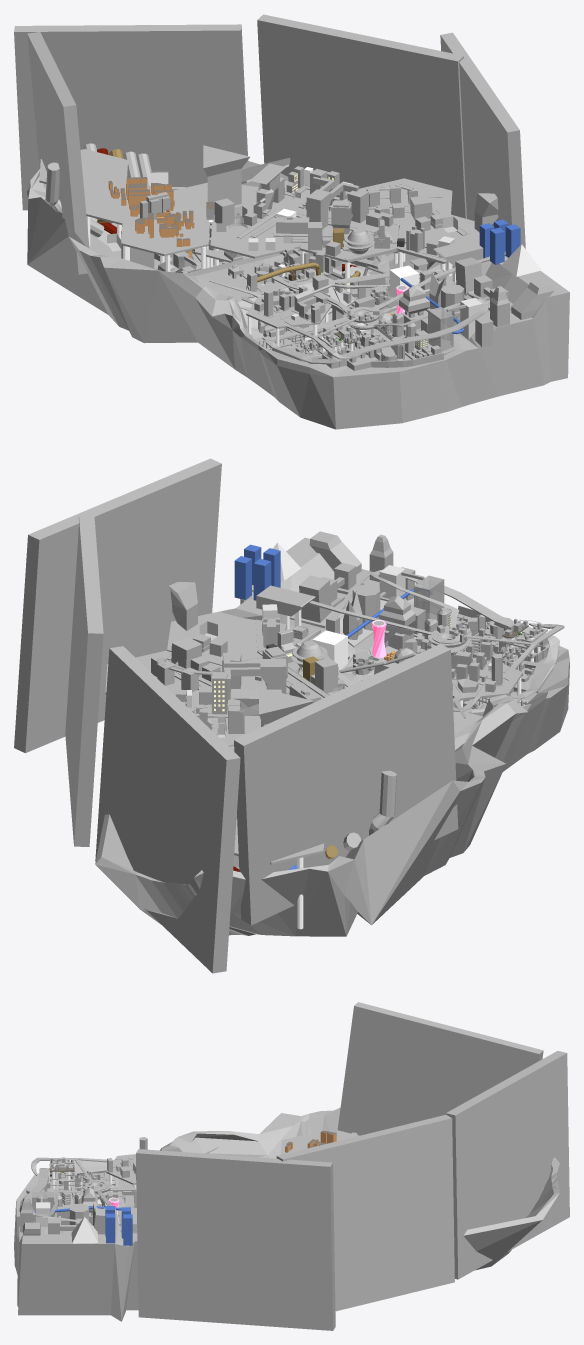
Rendered from megacity5.gltf.
3 renders of one model, top to bottom at view 1: azimuth 30°, elevation 25°; view 2: azimuth 150°, elevation 25°; view 3: azimuth 270°, elevation 25°, orthographic. The views are drawn at different scales.
Parts seen in each view (by area): view 1: Cube.330, Cube.061, Cube.627, Cube.062, Cube.628, Cylinder.054, Cylinder.099, Cylinder.053, Cylinder.085, Cylinder.083, Cylinder.056, Cylinder.055 (+26 smaller); view 2: Cube.330, Cube.628, Cube.062, Cube.627, Cube.061, Cylinder.038, Cube.492, Cube.359, Cylinder.030, Cylinder.099, Cylinder.103, Cube.427 (+17 smaller); view 3: Cube.062, Cube.061, Cube.330, Cube.627, Cube.628, Cube.359, Cone.001, Cylinder.054, Cylinder.030.
Part boxes in pixels (box(x1,y1,x2,y2)): Cube.330: box(27, 160, 569, 429); Cube.061: box(257, 14, 466, 218); Cube.627: box(14, 24, 248, 210); Cube.062: box(440, 32, 525, 248); Cube.628: box(27, 32, 89, 274); Cylinder.054: box(121, 213, 209, 256); Cylinder.099: box(203, 145, 249, 205); Cylinder.053: box(210, 215, 300, 258); Cylinder.085: box(39, 149, 127, 190); Cylinder.083: box(84, 181, 151, 224); Cylinder.056: box(171, 182, 256, 225); Cylinder.055: box(359, 178, 452, 227); Cube.330: box(95, 537, 569, 936); Cube.628: box(234, 644, 458, 925); Cube.062: box(14, 458, 221, 753); Cube.627: box(95, 646, 240, 973); Cube.061: box(65, 515, 103, 846); Cylinder.038: box(167, 609, 286, 665); Cube.492: box(223, 654, 286, 703); Cube.359: box(252, 585, 564, 668); Cylinder.030: box(452, 657, 522, 718); Cylinder.099: box(259, 687, 314, 725); Cylinder.103: box(169, 582, 197, 630); Cube.427: box(309, 531, 361, 574); Cube.062: box(136, 1149, 335, 1330); Cube.061: box(276, 1115, 454, 1311); Cube.330: box(14, 1107, 559, 1321); Cube.627: box(446, 1051, 569, 1279); Cube.628: box(337, 1002, 543, 1135); Cube.359: box(31, 1157, 122, 1243); Cone.001: box(71, 1216, 98, 1243); Cylinder.054: box(280, 1131, 320, 1154); Cylinder.030: box(106, 1146, 218, 1184).
Size of the model in its own units: 1937 by 1013 by 2730.
